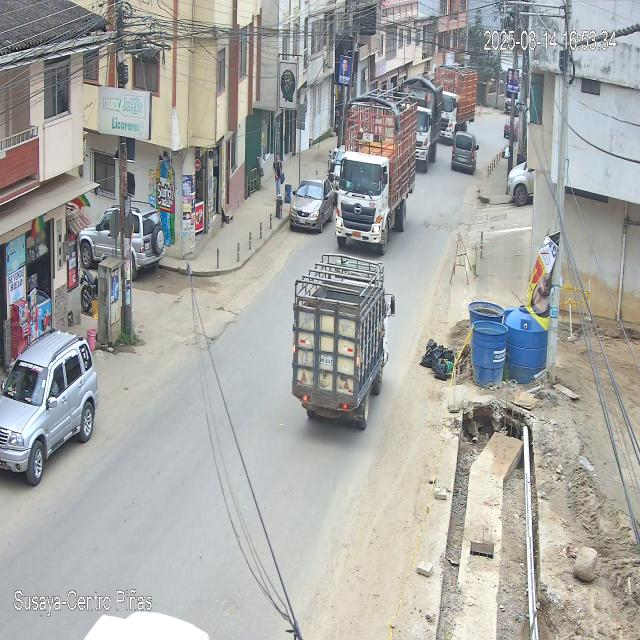TRUCK: (291, 253, 395, 430), (336, 90, 418, 255)
